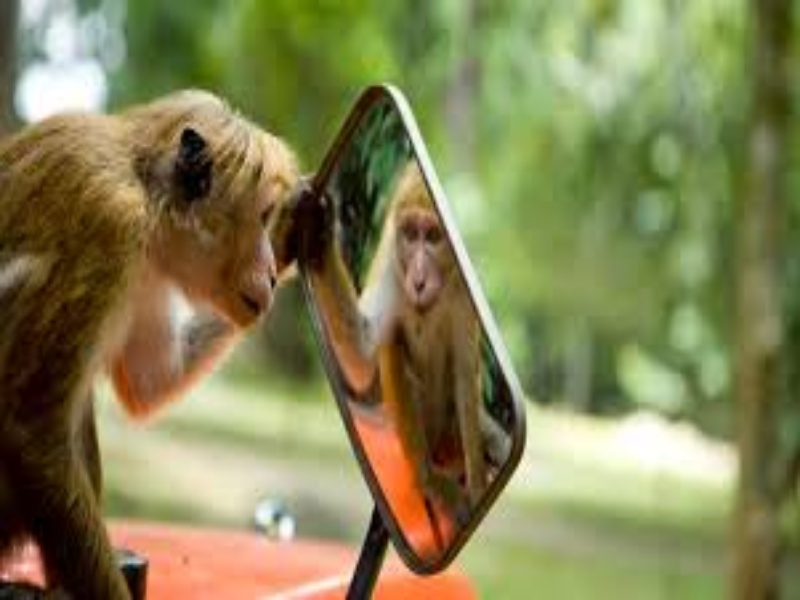monkey: (7, 74, 301, 600), (323, 182, 471, 433)
